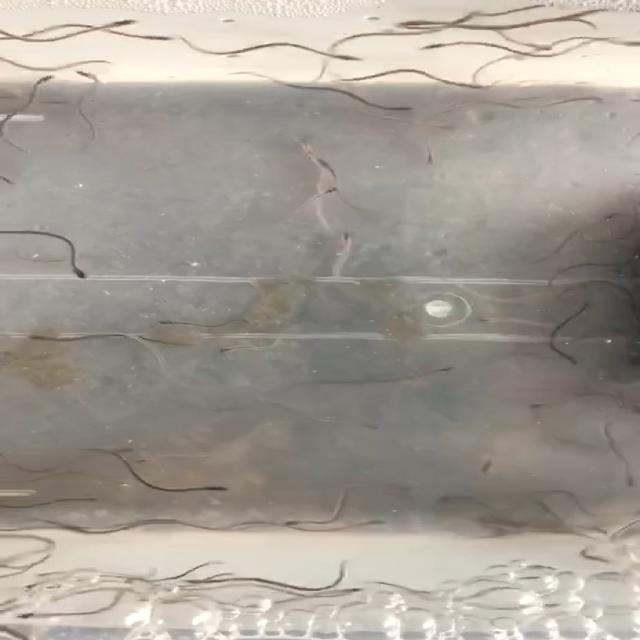active_glass_eel: (290, 134, 320, 160), (136, 29, 182, 45), (98, 14, 138, 30), (384, 96, 416, 116), (406, 41, 456, 53), (421, 146, 449, 166), (341, 230, 369, 250), (326, 50, 360, 66), (74, 68, 101, 88), (388, 15, 433, 27), (32, 74, 64, 90), (29, 566, 65, 580), (310, 183, 340, 199), (12, 610, 52, 622), (25, 332, 59, 346), (526, 401, 552, 419), (135, 453, 163, 469), (602, 36, 640, 47), (554, 350, 580, 366), (334, 582, 368, 594), (109, 446, 149, 456), (477, 456, 499, 474), (528, 599, 564, 610), (526, 39, 558, 51), (356, 517, 394, 527), (21, 578, 47, 592), (208, 483, 238, 495), (432, 363, 463, 374), (220, 344, 254, 354), (0, 173, 26, 186), (70, 264, 90, 280), (352, 421, 384, 431), (80, 494, 106, 506), (478, 314, 508, 324), (178, 576, 208, 586), (286, 519, 322, 527), (32, 98, 68, 106), (148, 318, 176, 328), (42, 580, 70, 590), (622, 474, 640, 488), (428, 124, 458, 132), (598, 213, 620, 221)
